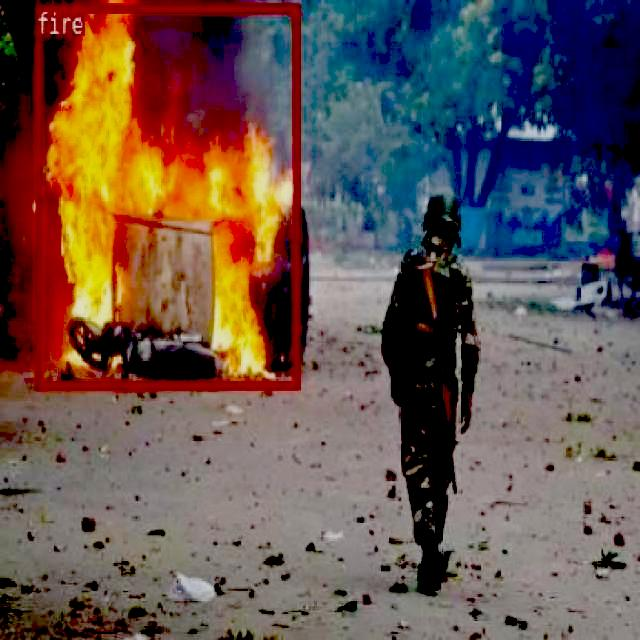fire: (35, 3, 298, 388)
